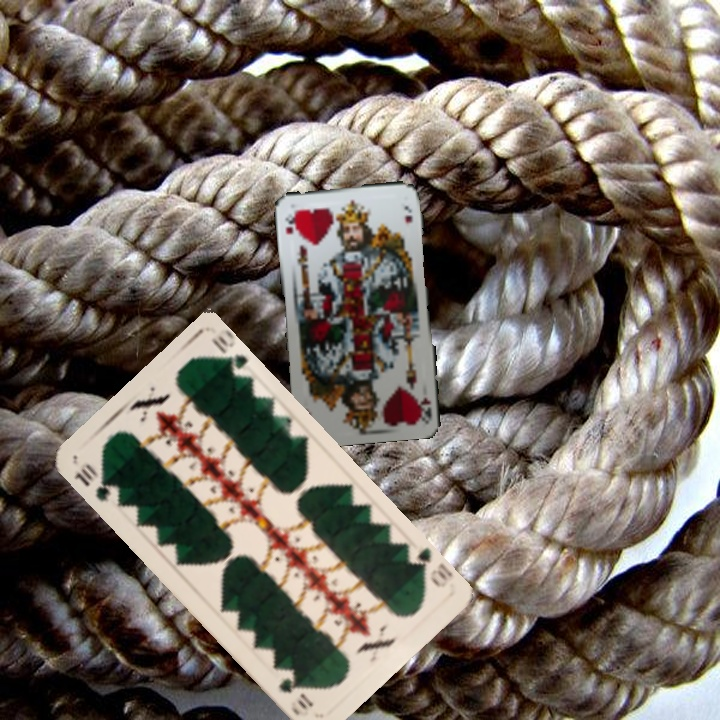G10: (70, 459, 122, 505), (403, 545, 453, 591)
HK: (281, 206, 299, 237), (416, 393, 435, 422)
